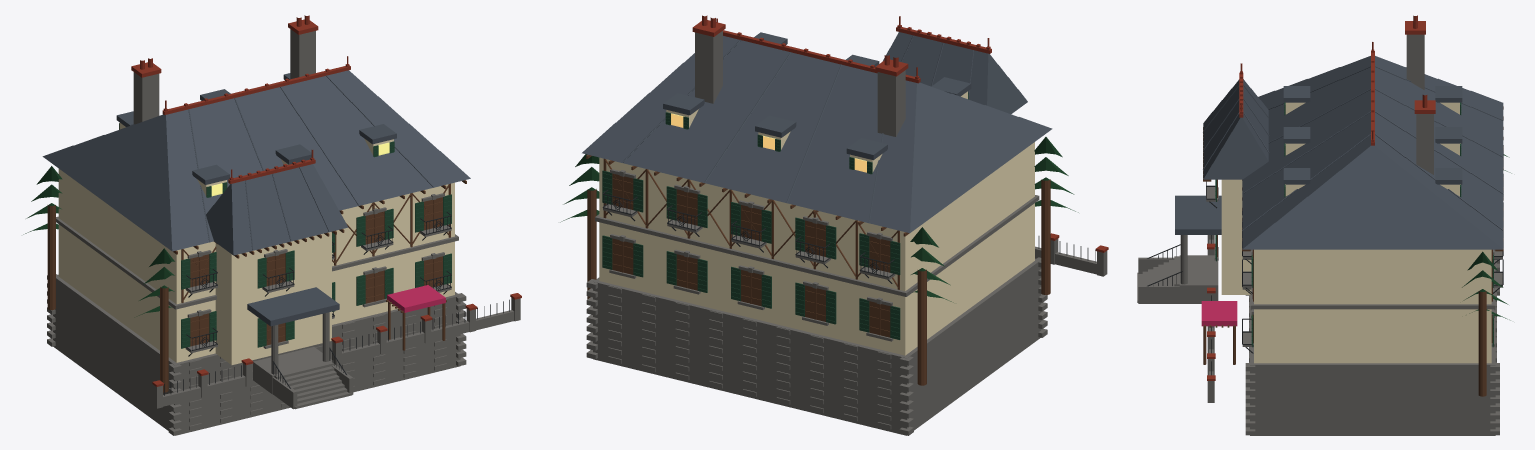
File: fv_ll_03_ana_mandara_villa_07_brittany_pool.glb
3 views of the same model, side by side, from view 1: azimuth 30°, elevation 25°; view 2: azimuth 150°, elevation 25°; view 3: azimuth 270°, elevation 25° (orthographic). The views are drawn at different scales.
Parts seen in each view (by area): view 1: marseille_corrugated_roof_tiles, granite_foundation_and_stairs, stucco_facade_and_dormers, colombage_timber_and_eaves, pine_green_louvered_shutters, ridge_cresting_and_chimneys, wrought_iron_balconies_3d, pine_trees_and_garden_hedges, bougainvillea_pergola_clusters; view 2: marseille_corrugated_roof_tiles, granite_foundation_and_stairs, stucco_facade_and_dormers, colombage_timber_and_eaves, pine_green_louvered_shutters, ridge_cresting_and_chimneys, pine_trees_and_garden_hedges, wrought_iron_balconies_3d; view 3: marseille_corrugated_roof_tiles, stucco_facade_and_dormers, granite_foundation_and_stairs, colombage_timber_and_eaves, ridge_cresting_and_chimneys, bougainvillea_pergola_clusters, wrought_iron_balconies_3d, pine_green_louvered_shutters, pine_trees_and_garden_hedges.
Boxes of the visible parts, bbox=[...] form: marseille_corrugated_roof_tiles: bbox=[42, 70, 470, 326]; granite_foundation_and_stairs: bbox=[47, 29, 520, 435]; stucco_facade_and_dormers: bbox=[58, 122, 454, 364]; colombage_timber_and_eaves: bbox=[47, 180, 466, 392]; pine_green_louvered_shutters: bbox=[119, 123, 451, 348]; ridge_cresting_and_chimneys: bbox=[131, 15, 521, 386]; wrought_iron_balconies_3d: bbox=[164, 212, 509, 395]; pine_trees_and_garden_hedges: bbox=[23, 166, 174, 317]; bougainvillea_pergola_clusters: bbox=[387, 285, 445, 312]; marseille_corrugated_roof_tiles: bbox=[582, 32, 1052, 233]; granite_foundation_and_stairs: bbox=[586, 31, 1107, 435]; stucco_facade_and_dormers: bbox=[599, 91, 1034, 355]; colombage_timber_and_eaves: bbox=[586, 155, 1050, 385]; pine_green_louvered_shutters: bbox=[602, 92, 968, 339]; ridge_cresting_and_chimneys: bbox=[692, 15, 1108, 252]; pine_trees_and_garden_hedges: bbox=[560, 137, 1078, 302]; wrought_iron_balconies_3d: bbox=[602, 190, 1095, 283]; marseille_corrugated_roof_tiles: bbox=[1175, 56, 1503, 249]; stucco_facade_and_dormers: bbox=[1221, 102, 1491, 363]; granite_foundation_and_stairs: bbox=[1137, 34, 1502, 435]; colombage_timber_and_eaves: bbox=[1203, 106, 1503, 396]; ridge_cresting_and_chimneys: bbox=[1207, 15, 1435, 380]; bougainvillea_pergola_clusters: bbox=[1201, 301, 1237, 326]; wrought_iron_balconies_3d: bbox=[1147, 145, 1503, 375]; pine_green_louvered_shutters: bbox=[1215, 102, 1493, 347]; pine_trees_and_garden_hedges: bbox=[1462, 154, 1511, 320].
Size of the model in its own units: 25.77 by 20.43 by 23.25.
